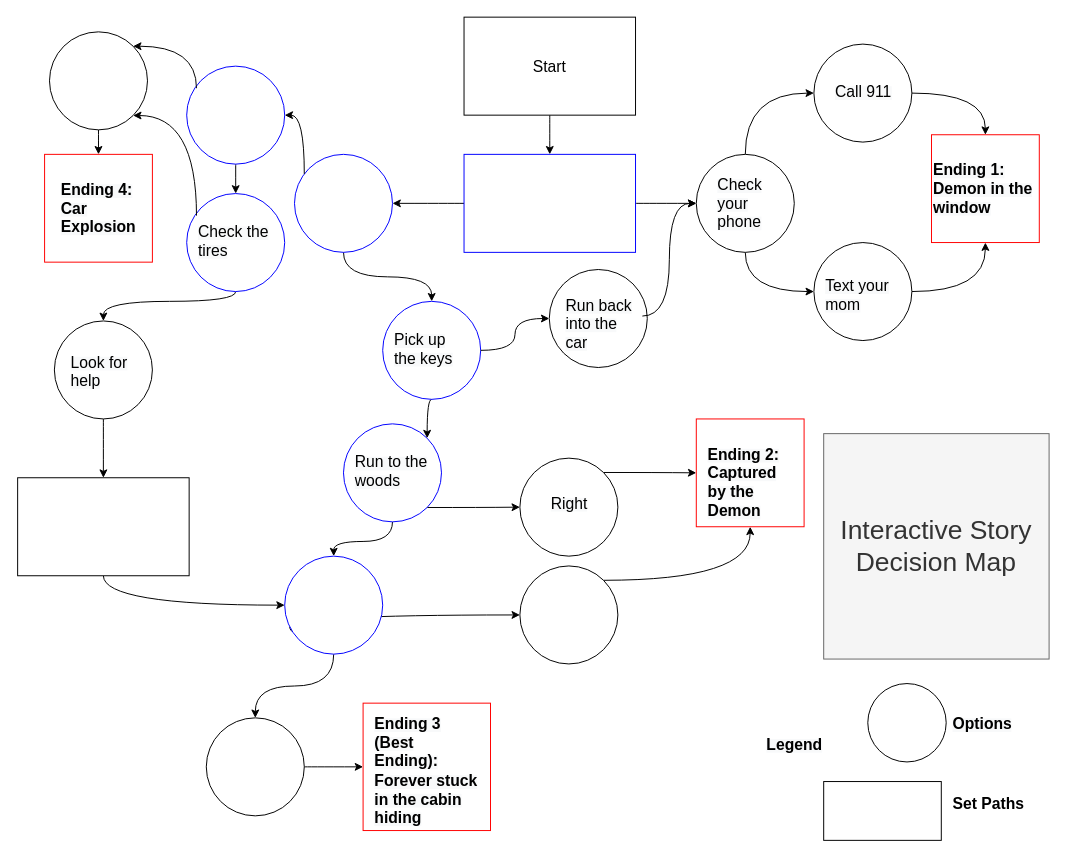
Some shapes in this 1085 by 858 pixel diagram are drawn without their labels. The centre of each missing label's shape, as x and y in pixels:
Car Crash: the point at 549,202
Check for damage: the point at 235,114
Find a path and take it: the point at 103,526
Get out of the car: the point at 343,202
Go further into the woods: the point at 568,614
Go into the cabin: the point at 254,766
Left: the point at 333,604
Open the hood: the point at 98,80
